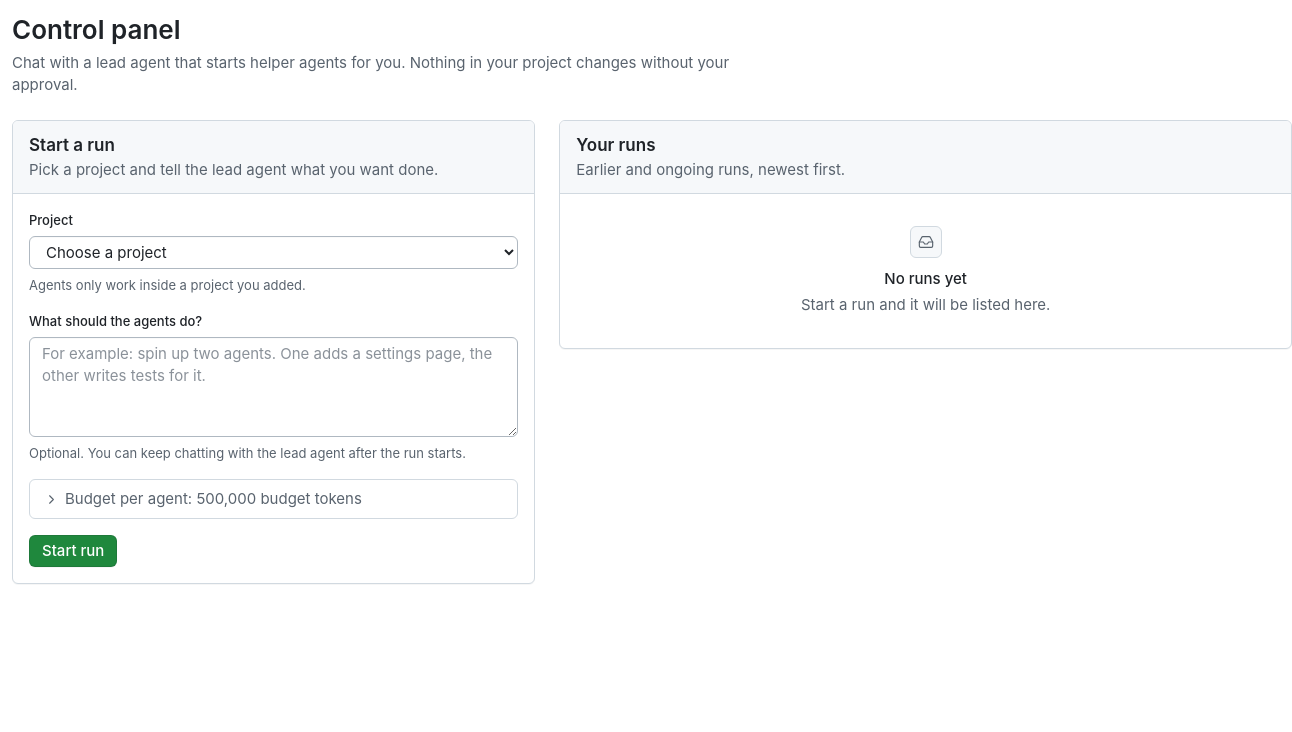
Scenario: control panel: starting a run › refuses to start without a project and sends nothing
Click the button "Start run" at (73, 551), box [29,535,117,567]
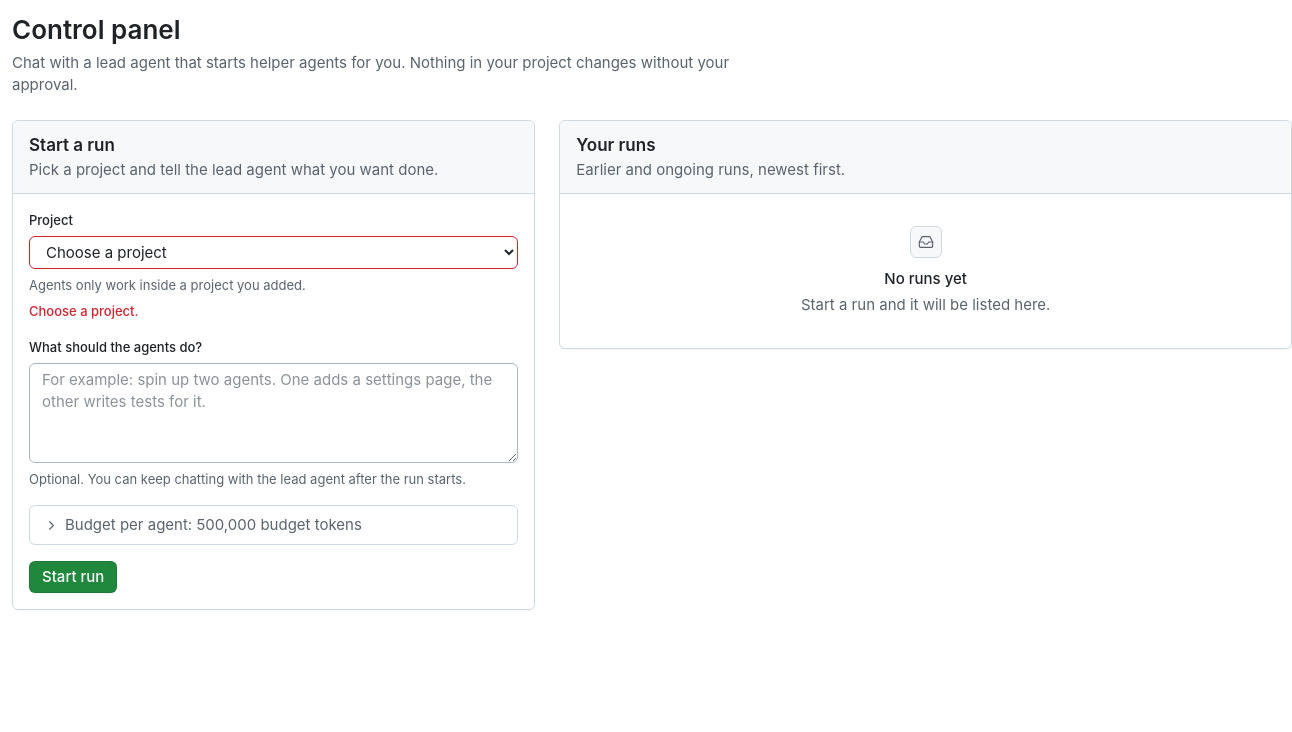
Result: the message reads "Choose a project." at [29,303,138,319]
